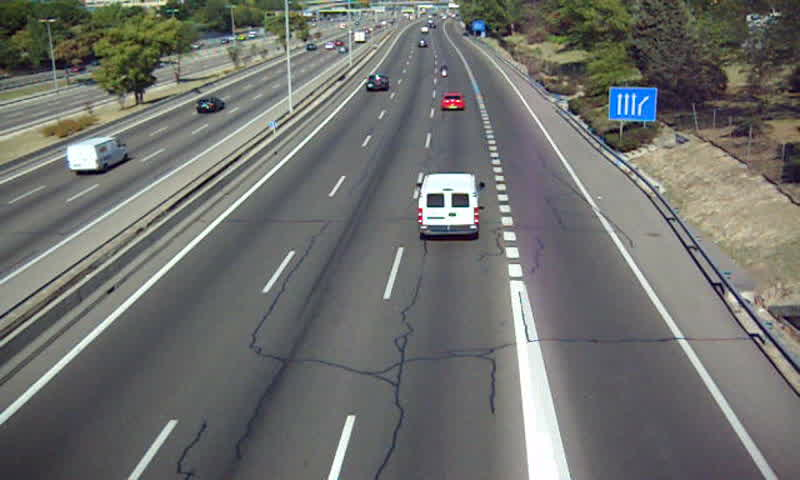car: (440, 92, 467, 112), (366, 74, 391, 91)
motorcycle: (438, 64, 450, 77)
van: (417, 173, 480, 237)
